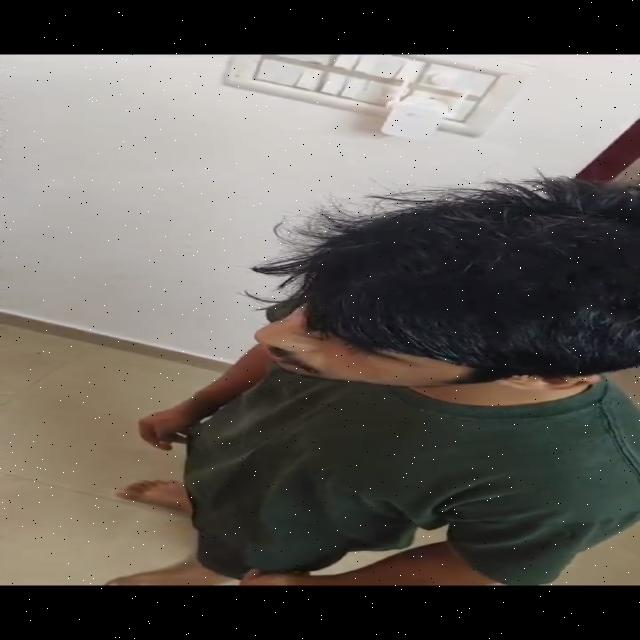humans: (111, 168, 640, 588)
